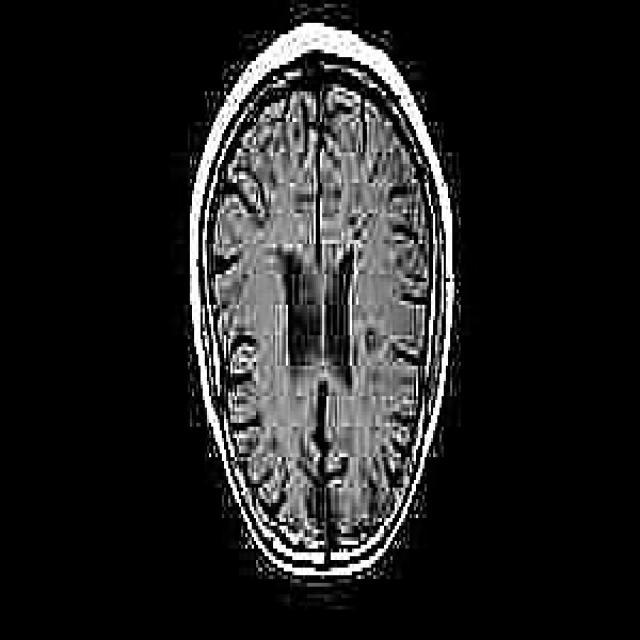notumor: (188, 27, 454, 583)
